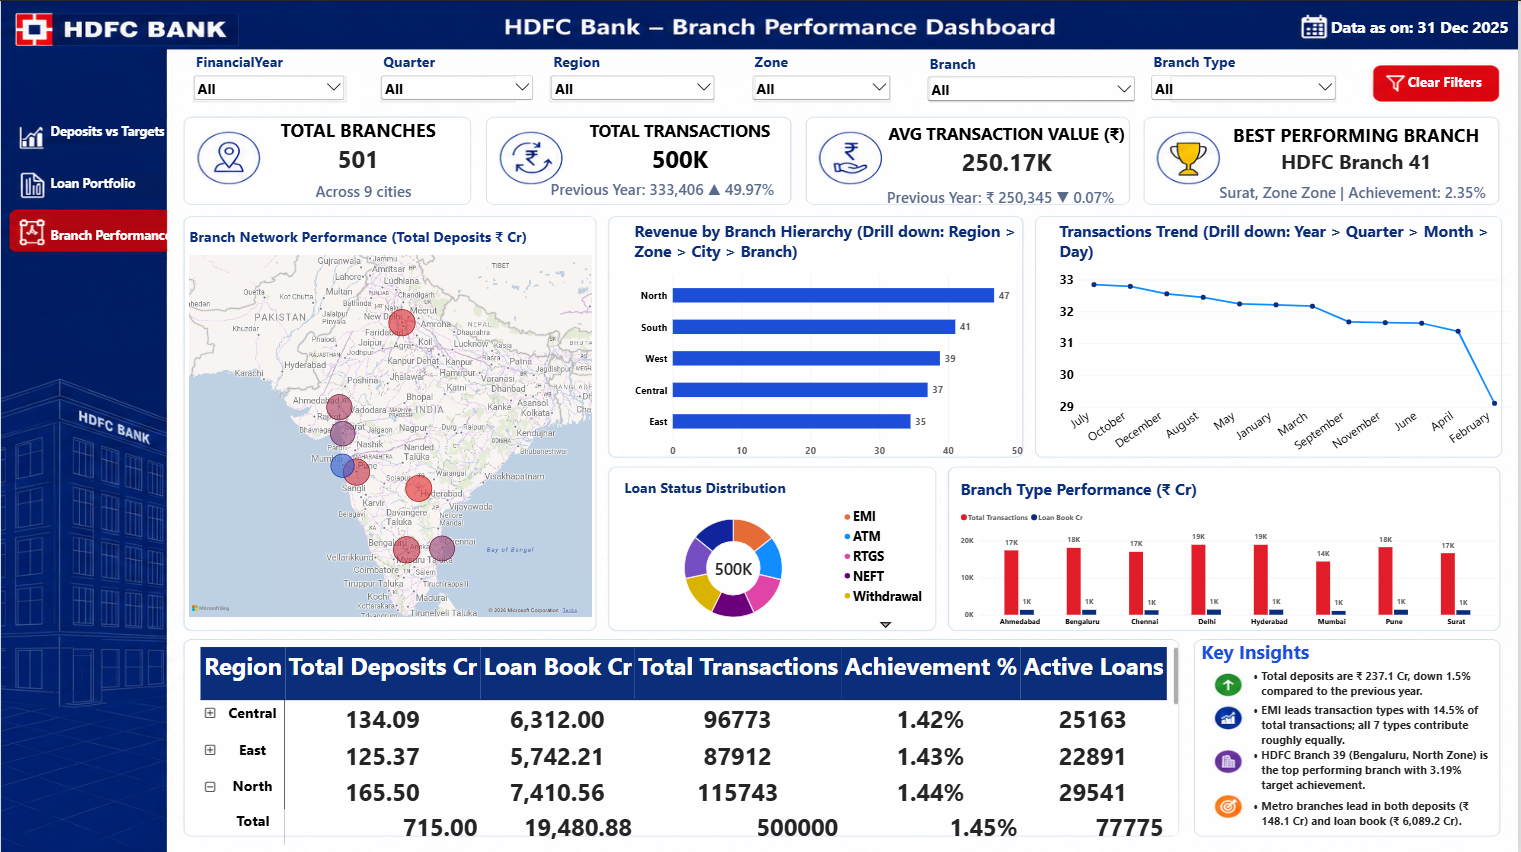

This screenshot's page, from the dashboard's own definition file:
{"tool":"powerbi","page":{"name":"Branch Performance","canvas":[2560,1440],"ordinal":2},"visuals":[{"type":"pageNavigator","box":[71.9,182,249.1,253.9],"z":0},{"type":"slicer","fields":{"Values":["DimDate.FinancialYear"]},"box":[321.2,86.3,263.7,93.5],"z":1},{"type":"slicer","fields":{"Values":["DimDate.Quarter"]},"box":[637.6,86.3,266.1,93.5],"z":2},{"type":"slicer","fields":{"Values":["DimBranch.Region"]},"box":[922.8,86.3,285.2,93.5],"z":3},{"type":"slicer","fields":{"Values":["DimBranch.Zone"]},"box":[1263.2,86.3,242.1,93.5],"z":4},{"type":"slicer","fields":{"Values":["DimBranch.BranchName"]},"box":[1558.1,88.7,359.6,93.5],"z":5},{"type":"slicer","fields":{"Values":["DimBranch.City Tier"]},"box":[1936.8,86.3,321.2,93.5],"z":6},{"type":"group","id":"g1","title":"Group 3","box":[1474.3,134.2,445.8,232.5],"z":7},{"type":"group","id":"g2","title":"Group 4","box":[2039.3,136.6,503.4,226.4],"z":8},{"type":"group","id":"g3","title":"Group 1","box":[910.9,136.6,474.6,230.1],"z":9},{"type":"group","id":"g4","title":"Group 2","box":[400.3,139,405.1,213.3],"z":10},{"type":"actionButton","box":[2329.9,112.7,210.9,50.3],"z":11},{"type":"cardVisual","fields":{"Data":["MeasureTable.Data As On"]},"box":[2226.8,0,333.2,86.3],"z":12},{"type":"clusteredBarChart","title":"Revenue by Branch Hierarchy (Drill down: Region > Zone > City > Branch)","fields":{"Category":["DimBranch.Region","DimBranch.City","DimBranch.Zone","DimBranch.BranchName"],"Y":["MeasureTable.Total Deposits Cr"]},"box":[1052.3,354.3,687.9,436.3],"z":13},{"type":"lineChart","title":"Transactions Trend (Drill down: Year > Quarter > Month > Day)","fields":{"Category":["DimDate.FY","DimDate.FY Quarter","DimDate.Month Label","DimDate.Date.Variation.Date Hierarchy.Year","DimDate.Date.Variation.Date Hierarchy.Quarter","DimDate.Date.Variation.Date Hierarchy.Month","DimDate.Date.Variation.Date Hierarchy.Day"],"Y":["MeasureTable.EMI Collection Cr"]},"box":[1769,354.3,791,441],"z":14},{"type":"donutChart","title":"Loan Status Distribution","fields":{"Category":["FactTransactions.TransactionType"],"Y":["MeasureTable.Total Transactions"]},"box":[1035.5,791,544.1,285.2],"z":15},{"type":"map","title":"Branch Network Performance (Total Deposits ₹ Cr)","fields":{"Category":["DimBranch.City"],"Size":["MeasureTable.Total Deposits Cr"]},"box":[302,366.7,711.9,687.9],"z":16},{"type":"pivotTable","fields":{"Rows":["DimBranch.Region","DimBranch.Zone","DimBranch.City","DimBranch.BranchName"],"Values":["MeasureTable.Total Deposits Cr","MeasureTable.Loan Book Cr","MeasureTable.Total Transactions","MeasureTable.Achievement %","MeasureTable.Active Loans"]},"box":[321.2,1076.3,1682.7,364.3],"z":17},{"type":"clusteredColumnChart","title":"Branch Type Performance (₹ Cr)","fields":{"Category":["DimBranch.City"],"Y":["MeasureTable.Total Transactions","MeasureTable.Loan Book Cr"]},"box":[1603.6,791,937.2,285.2],"z":18},{"type":"textbox","box":[2015.9,1076.3,210.9,67.1],"z":19},{"type":"textbox","box":[2097.4,1126.6,445.8,57.5],"z":20},{"type":"textbox","box":[2097.4,1184.1,424.3,74.3],"z":21},{"type":"textbox","box":[2097.4,1258.4,424.3,86.3],"z":22},{"type":"textbox","box":[2097.4,1344.7,424.3,69.5],"z":23},{"type":"cardVisual","fields":{"Data":["MeasureTable.Total Branches"]},"box":[400.3,139,404.8,213.2],"z":8000,"group":"g4"},{"type":"cardVisual","fields":{"Data":["MeasureTable.Total Transactions"]},"box":[922.6,136.6,443.4,218.1],"z":9000,"group":"g3"},{"type":"cardVisual","fields":{"Data":["MeasureTable.Best Branch"]},"box":[2049.5,136.6,473.2,226.4],"z":10000,"group":"g2"},{"type":"cardVisual","fields":{"Data":["MeasureTable.Avg Transaction Value"]},"box":[1474.3,134.2,445.8,232.5],"z":11000,"group":"g1"},{"type":"cardVisual","fields":{"Data":["MeasureTable.Sub Branches"]},"box":[513.6,292.3,285.2,55.1],"z":12000,"group":"g4"},{"type":"cardVisual","fields":{"Data":["MeasureTable.Sub Transactions"]},"box":[910.9,267.7,474.6,98.3],"z":13000,"group":"g3"},{"type":"cardVisual","fields":{"Data":["MeasureTable.Sub Avg Transaction"]},"box":[1479,293.6,436.3,71.9],"z":14000,"group":"g1"},{"type":"cardVisual","fields":{"Data":["MeasureTable.Best Branch Info"]},"box":[2039.3,293.3,503.4,57.5],"z":15000,"group":"g2"}]}

Visuals, with their boxes on the page's 2560x1440 design canvas (x1, y1, x2, y2). These are canvas units, not pixel positions in the 1521x852 screenshot, which may show the page scaled, cropped or inside an application window:
pageNavigator: bbox=[72, 182, 321, 436]
slicer - DimDate.FinancialYear: bbox=[321, 86, 585, 180]
slicer - DimDate.Quarter: bbox=[638, 86, 904, 180]
slicer - DimBranch.Region: bbox=[923, 86, 1208, 180]
slicer - DimBranch.Zone: bbox=[1263, 86, 1505, 180]
slicer - DimBranch.BranchName: bbox=[1558, 89, 1918, 182]
slicer - DimBranch.City Tier: bbox=[1937, 86, 2258, 180]
"Group 3" group: bbox=[1474, 134, 1920, 367]
"Group 4" group: bbox=[2039, 137, 2543, 363]
"Group 1" group: bbox=[911, 137, 1386, 367]
"Group 2" group: bbox=[400, 139, 805, 352]
actionButton: bbox=[2330, 113, 2541, 163]
cardVisual - MeasureTable.Data As On: bbox=[2227, 0, 2560, 86]
"Revenue by Branch Hierarchy (Drill down: Region > Zone > City > Branch)" clusteredBarChart: bbox=[1052, 354, 1740, 791]
"Transactions Trend (Drill down: Year > Quarter > Month > Day)" lineChart: bbox=[1769, 354, 2560, 795]
"Loan Status Distribution" donutChart: bbox=[1036, 791, 1580, 1076]
"Branch Network Performance (Total Deposits ₹ Cr)" map: bbox=[302, 367, 1014, 1055]
pivotTable - DimBranch.Region x DimBranch.Zone: bbox=[321, 1076, 2004, 1441]
"Branch Type Performance (₹ Cr)" clusteredColumnChart: bbox=[1604, 791, 2541, 1076]
textbox: bbox=[2016, 1076, 2227, 1143]
textbox: bbox=[2097, 1127, 2543, 1184]
textbox: bbox=[2097, 1184, 2522, 1258]
textbox: bbox=[2097, 1258, 2522, 1345]
textbox: bbox=[2097, 1345, 2522, 1414]
cardVisual - MeasureTable.Total Branches: bbox=[400, 139, 805, 352]
cardVisual - MeasureTable.Total Transactions: bbox=[923, 137, 1366, 355]
cardVisual - MeasureTable.Best Branch: bbox=[2050, 137, 2523, 363]
cardVisual - MeasureTable.Avg Transaction Value: bbox=[1474, 134, 1920, 367]
cardVisual - MeasureTable.Sub Branches: bbox=[514, 292, 799, 347]
cardVisual - MeasureTable.Sub Transactions: bbox=[911, 268, 1386, 366]
cardVisual - MeasureTable.Sub Avg Transaction: bbox=[1479, 294, 1915, 366]
cardVisual - MeasureTable.Best Branch Info: bbox=[2039, 293, 2543, 351]
